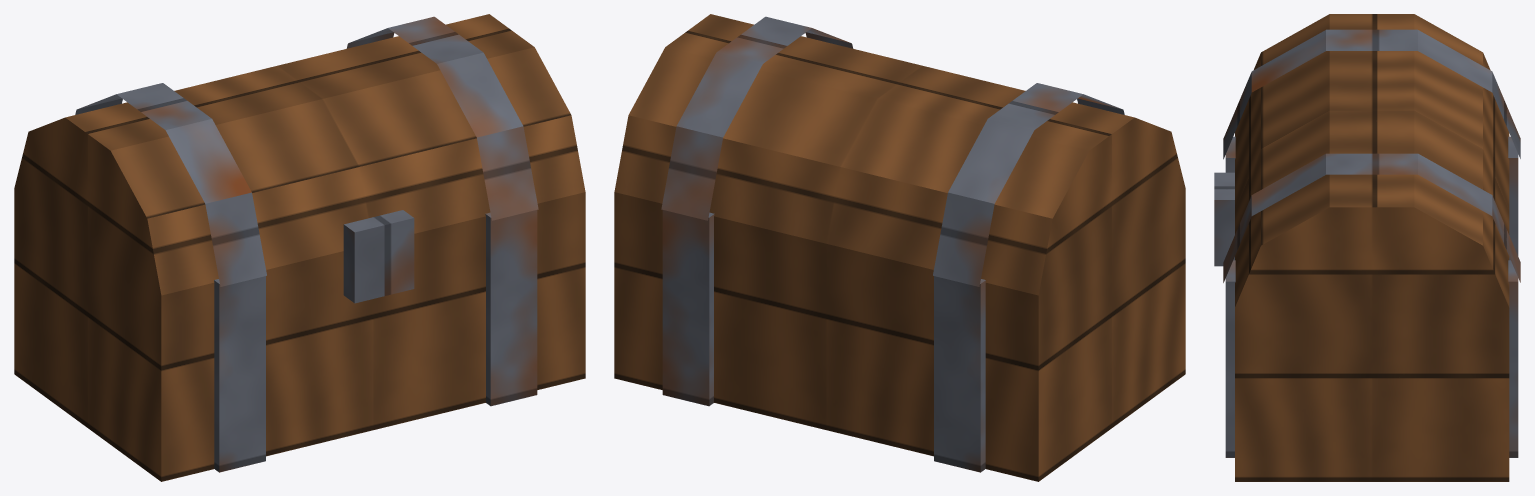
File: Chest.glb
3 views of the same model, side by side, from view 1: azimuth 30°, elevation 25°; view 2: azimuth 150°, elevation 25°; view 3: azimuth 270°, elevation 25° (orthographic). The views are drawn at different scales.
Parts seen in each view (by area): view 1: Chest; view 2: Chest; view 3: Chest.
Part boxes in pixels (left/top/right/bottom): Chest: left=14, top=14, right=585, bottom=481; Chest: left=614, top=14, right=1185, bottom=481; Chest: left=1214, top=14, right=1520, bottom=481.
Size of the model in its own units: 1 by 0.6827 by 0.67.
Materials: 2 (2 with a texture image).
